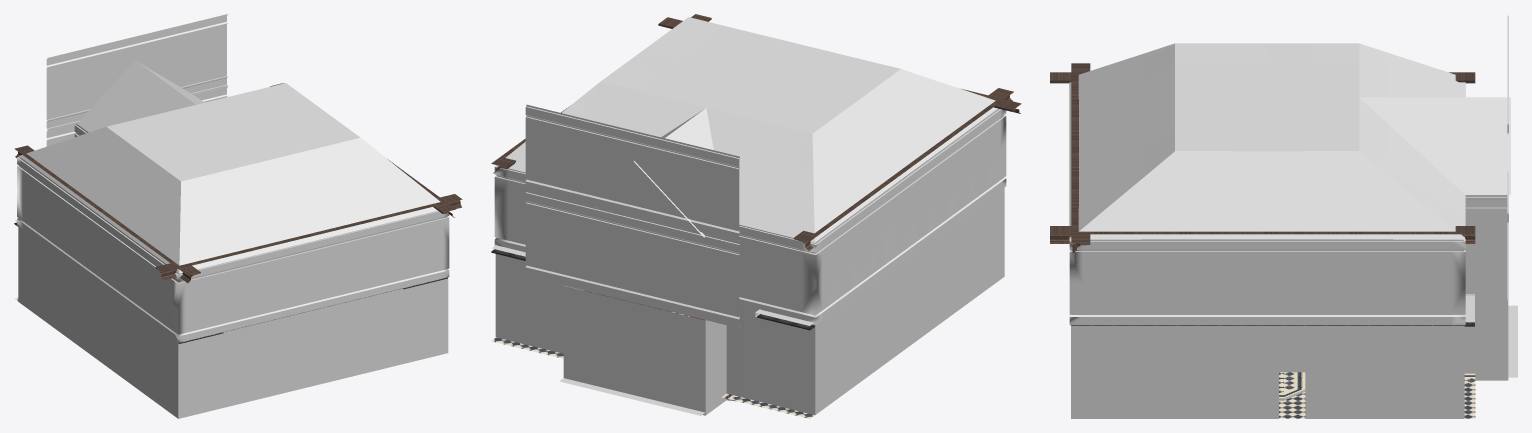
File: MansaoBlocagem (com diferente pq talvez de problema por enquanto)_.fbx
3 views of the same model, side by side, from view 1: azimuth 30°, elevation 25°; view 2: azimuth 150°, elevation 25°; view 3: azimuth 270°, elevation 25° (orthographic). The views are drawn at different scales.
Visible parts, largest first — view 1: TelhadoHall, ParedesHall.002, ParedesHall.001, ParedesHall, CumeeiraHall, CumeeiraHall.001; view 2: TelhadoHall, ParedesHall.002, ParedesHall, ParedesHall.001, CumeeiraHall.001, ChaoReflexivo, MezaninoLateral, ChaoHall, CumeeiraHall; view 3: TelhadoHall, ParedesHall.002, ParedesHall.001, CumeeiraHall.002, CumeeiraHall, ChaoReflexivo, ParedesHall, ChaoHall, MezaninoLateral, CumeeiraHall.001.
Part boxes in pixels (x1,y1,x2,y2): TelhadoHall: (18, 60, 440, 273); ParedesHall.002: (18, 226, 448, 418); ParedesHall.001: (17, 156, 449, 342); ParedesHall: (46, 14, 227, 146); CumeeiraHall: (155, 194, 462, 280); CumeeiraHall.001: (14, 145, 200, 282); TelhadoHall: (496, 17, 997, 242); ParedesHall.002: (495, 187, 1004, 415); ParedesHall: (525, 104, 739, 328); ParedesHall.001: (494, 108, 1006, 325); CumeeiraHall.001: (794, 88, 1013, 250); ChaoReflexivo: (491, 290, 814, 418); MezaninoLateral: (491, 245, 815, 330); ChaoHall: (559, 316, 704, 415); CumeeiraHall: (658, 17, 1021, 113); TelhadoHall: (1069, 43, 1510, 239); ParedesHall.002: (1071, 210, 1508, 418); ParedesHall.001: (1069, 82, 1465, 325); CumeeiraHall.002: (1050, 226, 1475, 243); CumeeiraHall: (1071, 63, 1090, 252); ChaoReflexivo: (1279, 372, 1475, 418); ParedesHall: (1465, 15, 1508, 299); ChaoHall: (1279, 305, 1517, 400); MezaninoLateral: (1071, 294, 1474, 326); CumeeiraHall.001: (1050, 72, 1475, 83).
Size of the model in its own units: 20 by 14.51 by 22.
